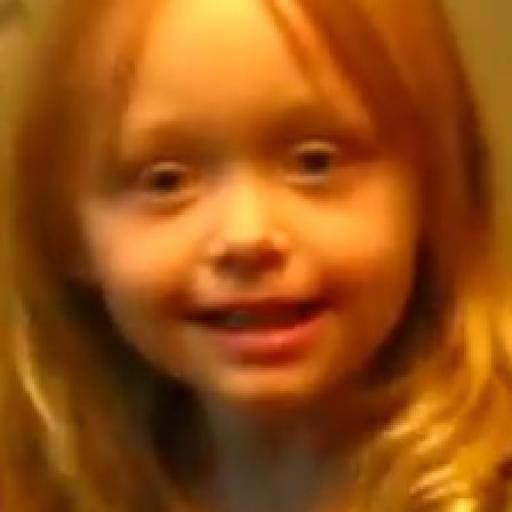Autism: (39, 14, 501, 491)
